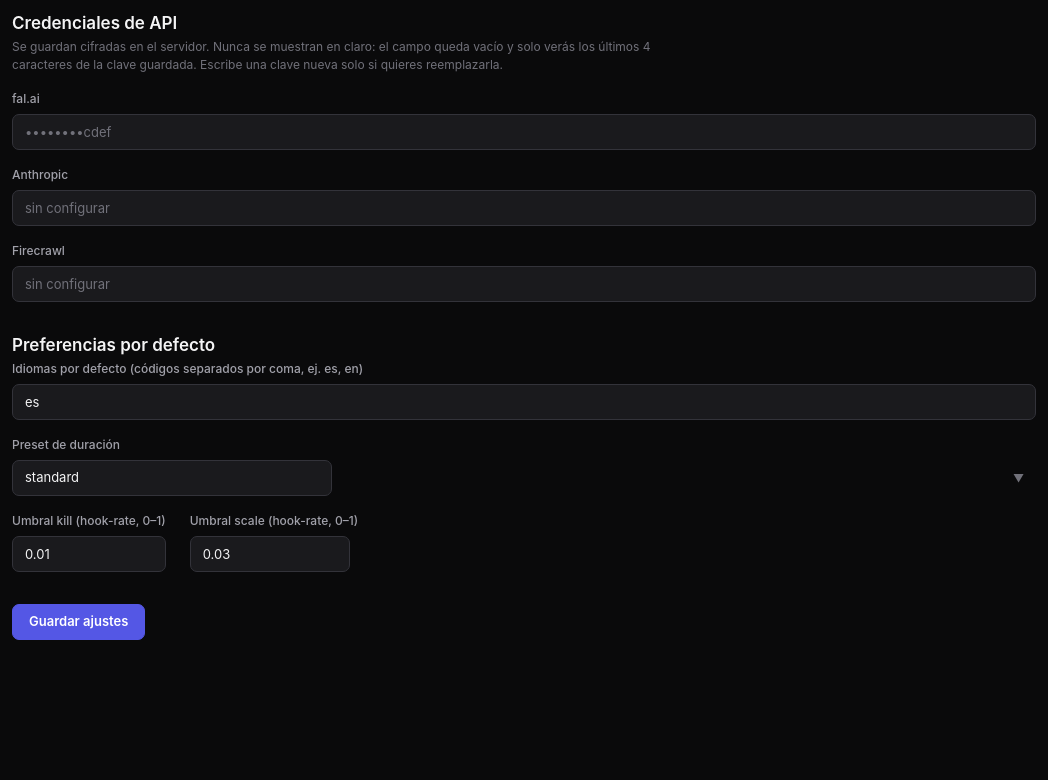
SettingsForm (credenciales write-only, T0.14) › tras guardar, muestra confirmación y el input de key vuelve a vacío (no eco)
Type "nueva-fal-key" into the password field labelled "fal.ai" at {"x": 524, "y": 132}, box x1=12 y1=114 x2=1036 y2=150
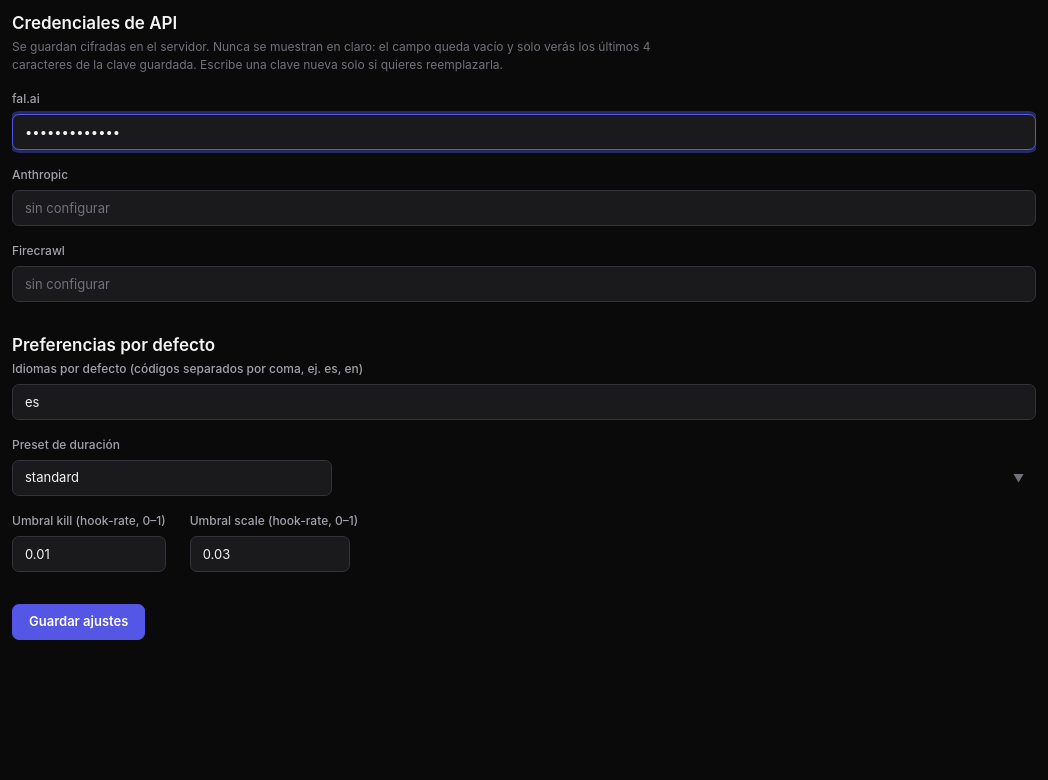
Click the button "Guardar ajustes" at {"x": 79, "y": 622}, box x1=12 y1=604 x2=145 y2=640
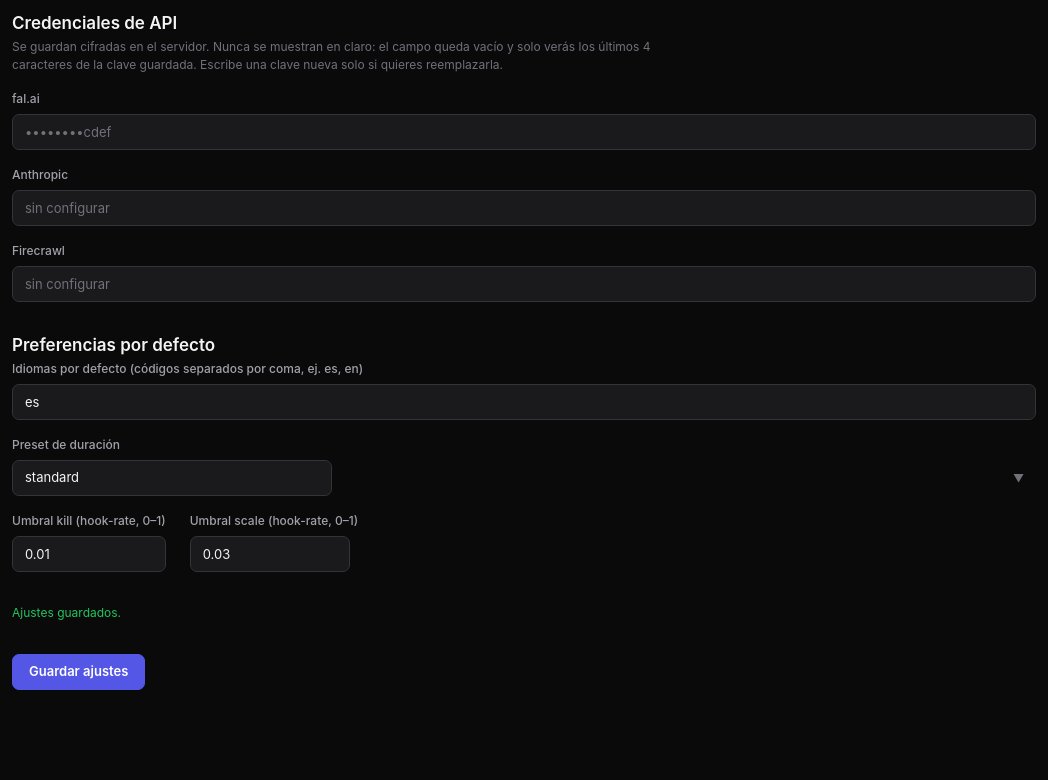
Expected: the message shows "guardad", x1=12 y1=605 x2=121 y2=620
Expected: the password field labelled "fal.ai" is empty, x1=12 y1=114 x2=1036 y2=150
